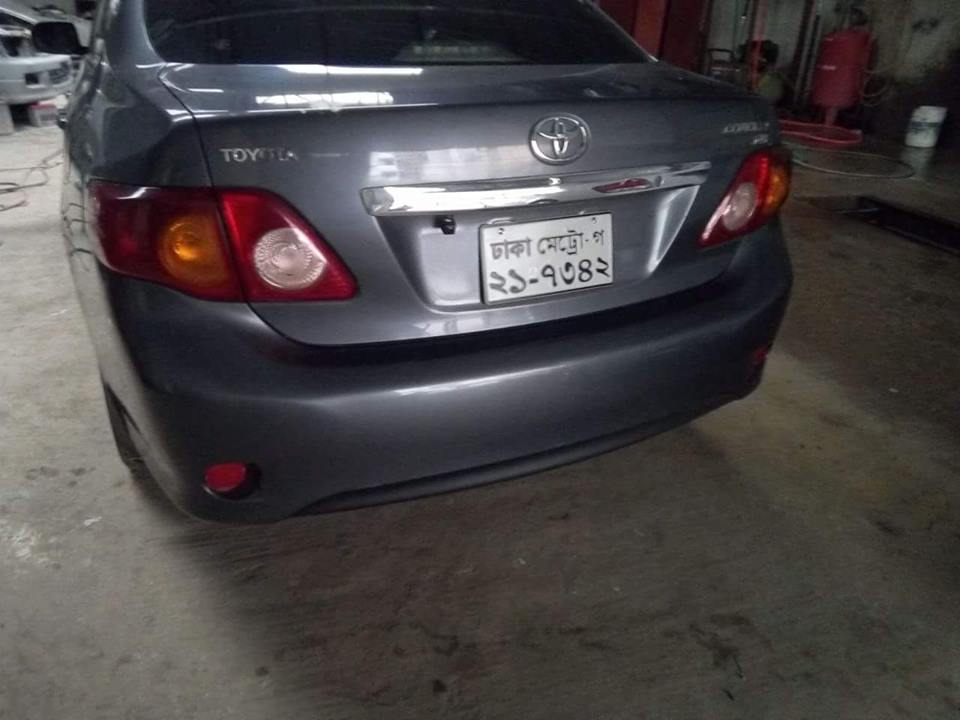registration_plate: (481, 212, 613, 303)
